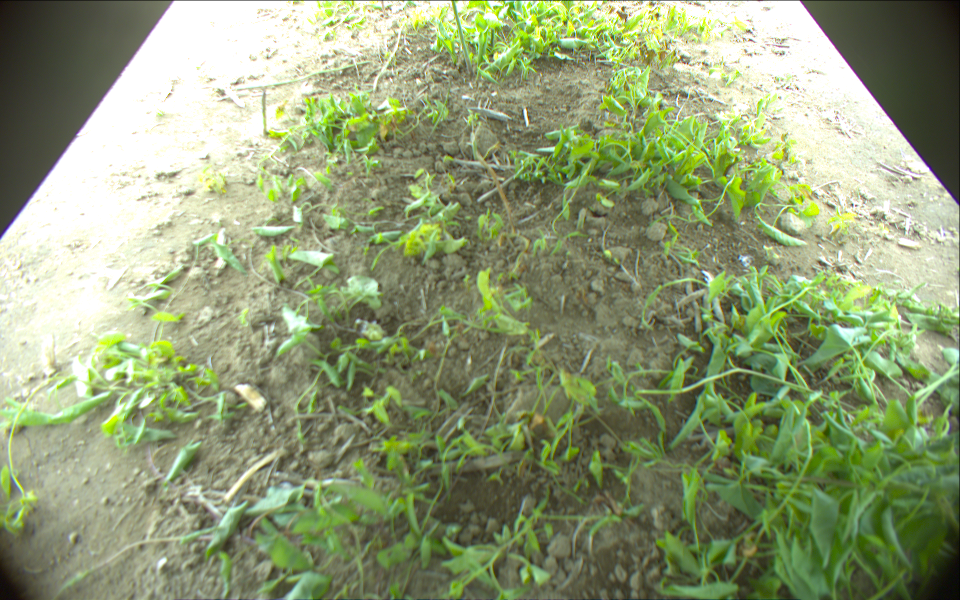aspa: (468, 119, 517, 218), (232, 60, 371, 90), (449, 1, 475, 72), (260, 89, 270, 137)
